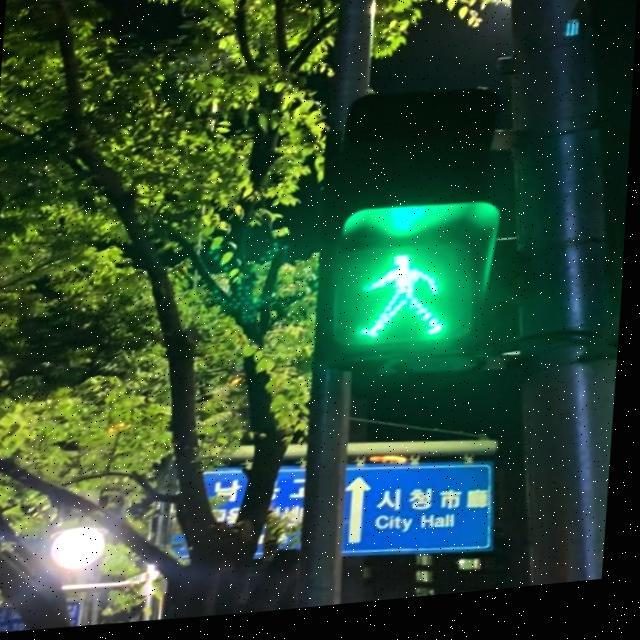green_light: (348, 244, 466, 360)
